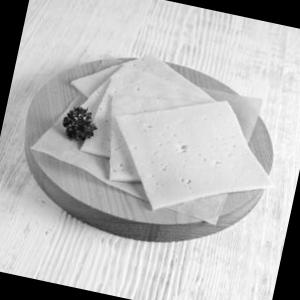cheese: (27, 31, 296, 236)
